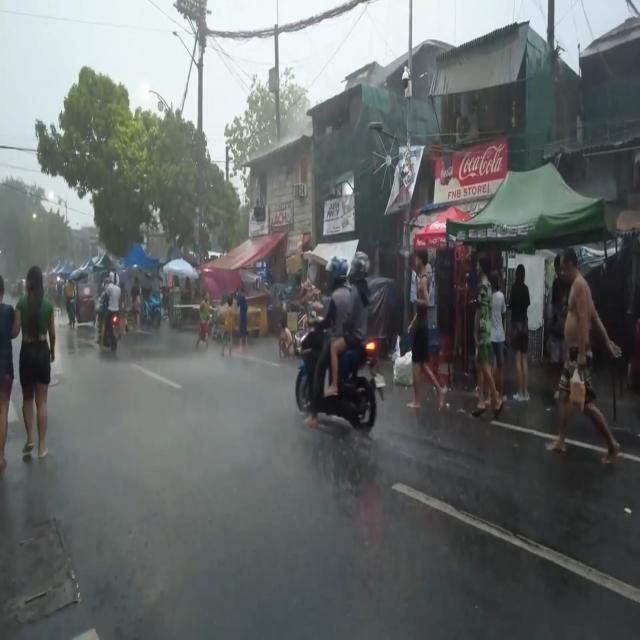full: (347, 251, 371, 284)
